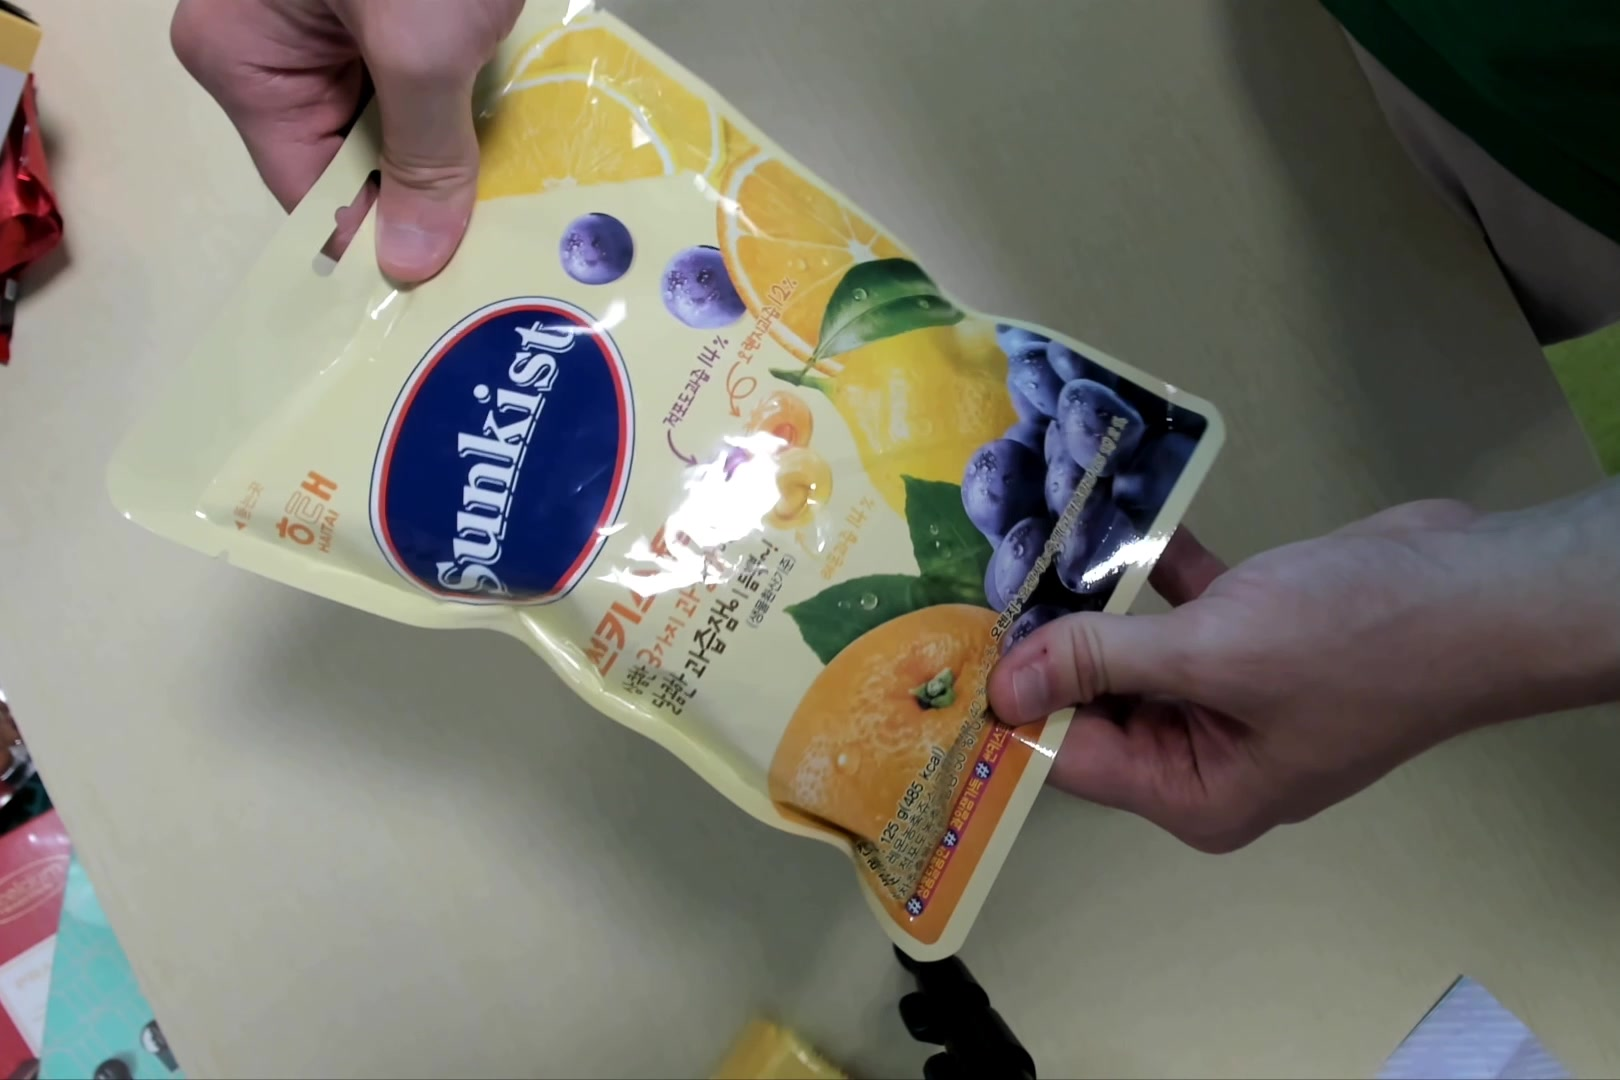SweetsChocolatesOthers_100-199g_NonHalal_NonHealthy: (122, 17, 1223, 972)
